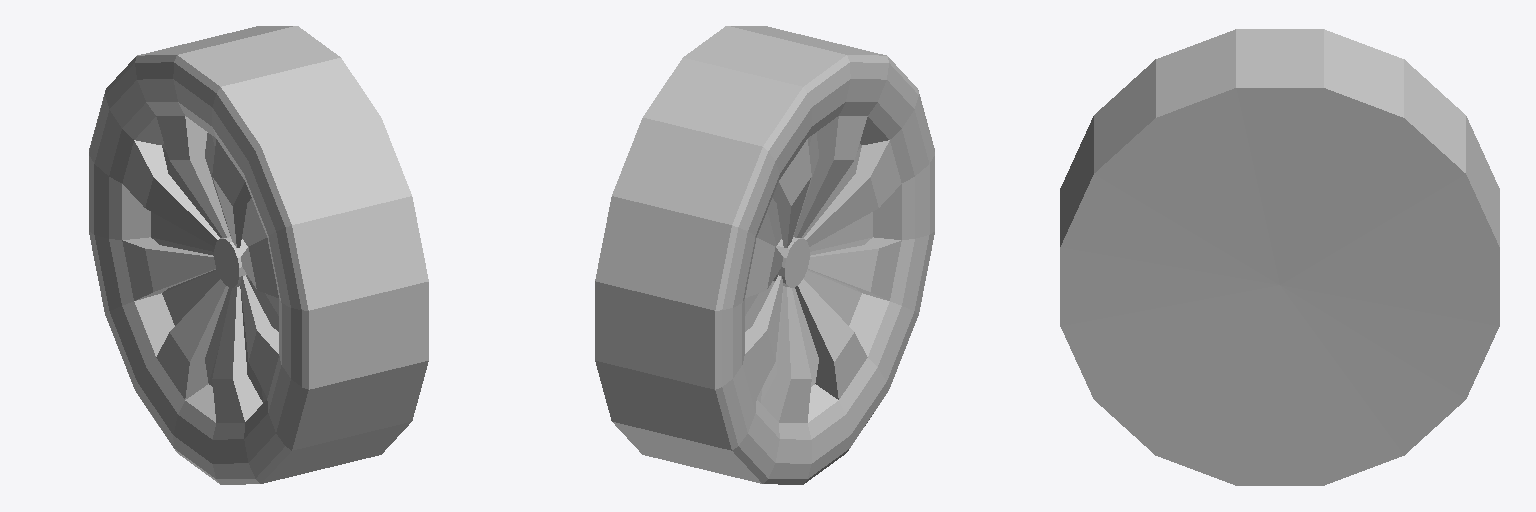
File: WheelFR.obj
The picture shows the model from 3 angles: view 1: azimuth 30°, elevation 25°; view 2: azimuth 150°, elevation 25°; view 3: azimuth 270°, elevation 25°; orthographic projection.
Parts seen in each view (by area): view 1: WheelFR; view 2: WheelFR; view 3: WheelFR.
Part boxes in pixels (left/top/right/bottom): WheelFR: left=89, top=26, right=428, bottom=484; WheelFR: left=595, top=26, right=934, bottom=484; WheelFR: left=1060, top=29, right=1499, bottom=485.
Size of the model in its own units: 0.2086 by 0.6277 by 0.6277.